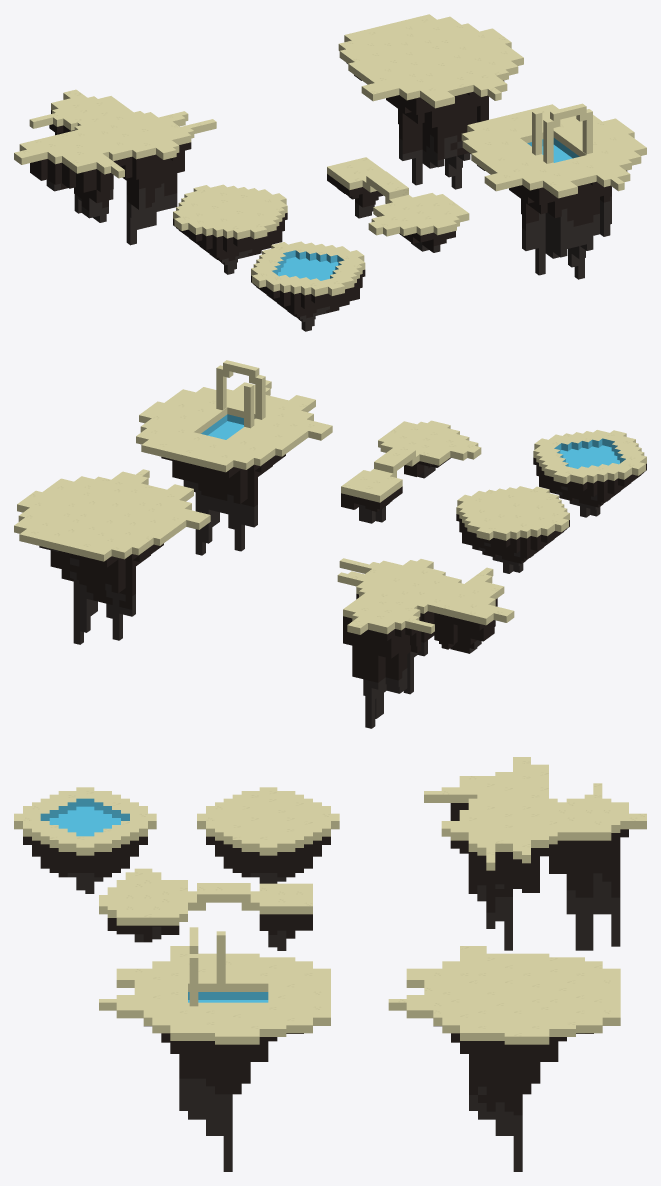
The model's file is blockyIslands.FBX.
3 views of the same model, one above another, from view 1: azimuth 30°, elevation 25°; view 2: azimuth 150°, elevation 25°; view 3: azimuth 270°, elevation 25° (orthographic). The views are drawn at different scales.
Visible parts, largest first — view 1: Box005, Box002, Box004, Box003, Box008, Box001, Box006, Box007; view 2: Box005, Box002, Box004, Box008, Box003, Box001, Box006; view 3: Box005, Box002, Box004, Box008, Box003, Box001, Box006.
Boxes of the visible parts, x1=… form: Box005: x1=338, y1=14, x2=523, y2=189; Box002: x1=461, y1=104, x2=646, y2=279; Box004: x1=14, y1=89, x2=216, y2=245; Box003: x1=173, y1=184, x2=287, y2=274; Box008: x1=251, y1=241, x2=365, y2=331; Box001: x1=327, y1=157, x2=469, y2=252; Box006: x1=543, y1=103, x2=592, y2=163; Box007: x1=532, y1=110, x2=542, y2=155; Box005: x1=14, y1=469, x2=210, y2=644; Box002: x1=136, y1=380, x2=332, y2=555; Box004: x1=337, y1=558, x2=514, y2=728; Box008: x1=533, y1=430, x2=646, y2=517; Box003: x1=456, y1=486, x2=569, y2=573; Box001: x1=341, y1=420, x2=481, y2=523; Box006: x1=216, y1=360, x2=265, y2=419; Box005: x1=388, y1=946, x2=620, y2=1171; Box002: x1=99, y1=946, x2=330, y2=1171; Box004: x1=424, y1=757, x2=646, y2=950; Box008: x1=14, y1=787, x2=156, y2=893; Box003: x1=197, y1=787, x2=339, y2=883; Box001: x1=99, y1=868, x2=312, y2=950; Box006: x1=189, y1=927, x2=198, y2=1006.
Size of the model in its own units: 2919 by 1064 by 2793.
